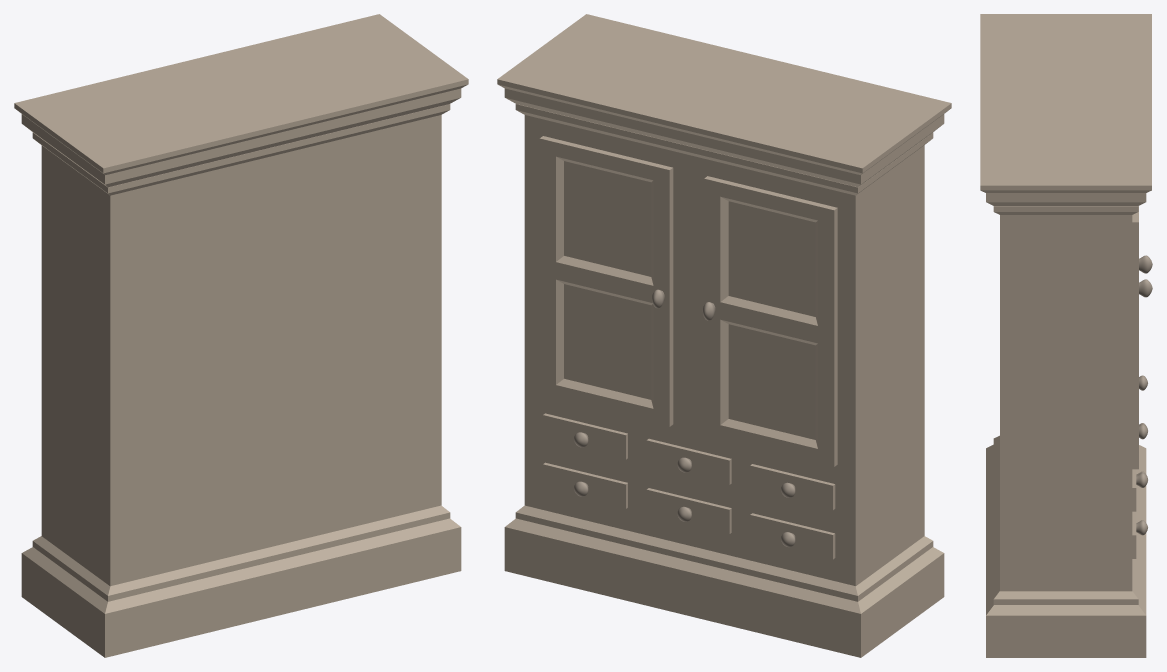
The model's file is Armoire1_3.fbx.
3 renders of one model, left to right at view 1: azimuth 30°, elevation 25°; view 2: azimuth 150°, elevation 25°; view 3: azimuth 270°, elevation 25°, orthographic. The views are drawn at different scales.
Parts seen in each view (by area): view 1: pCube2399, pCube2398, pCube2402, pCube2401, pCube2400, pCube2397; view 2: pCube2399, pCube2398, pCube2422, pCube2425, pCube2402, pCube2401, pCube2400, pCube2397, pCube2417, pCube2415, pCube2418, pCube2416 (+2 smaller); view 3: pCube2399, pCube2398, pCube2402, pCube2401, pCube2400, pCube2422, pCube2397.
Part boxes in pixels (x1,y1,x2,y2): pCube2399: [41, 115, 441, 586]; pCube2398: [14, 14, 468, 174]; pCube2402: [21, 518, 461, 657]; pCube2401: [32, 505, 450, 601]; pCube2400: [21, 88, 461, 187]; pCube2397: [32, 104, 450, 195]; pCube2399: [524, 115, 924, 586]; pCube2398: [497, 14, 951, 174]; pCube2422: [539, 136, 673, 426]; pCube2425: [704, 176, 837, 466]; pCube2402: [504, 518, 944, 657]; pCube2401: [515, 505, 933, 601]; pCube2400: [504, 88, 944, 187]; pCube2397: [515, 104, 933, 195]; pCube2417: [750, 513, 835, 559]; pCube2415: [646, 438, 731, 484]; pCube2418: [646, 488, 731, 534]; pCube2416: [750, 464, 835, 510]; pCube2399: [1000, 215, 1132, 591]; pCube2398: [980, 14, 1151, 192]; pCube2402: [986, 444, 1146, 657]; pCube2401: [993, 435, 1138, 604]; pCube2400: [986, 193, 1146, 205]; pCube2422: [1132, 206, 1138, 469]; pCube2397: [993, 206, 1138, 214].
Bounding box in the file's own units: 91.15 × 118 × 38.72.
